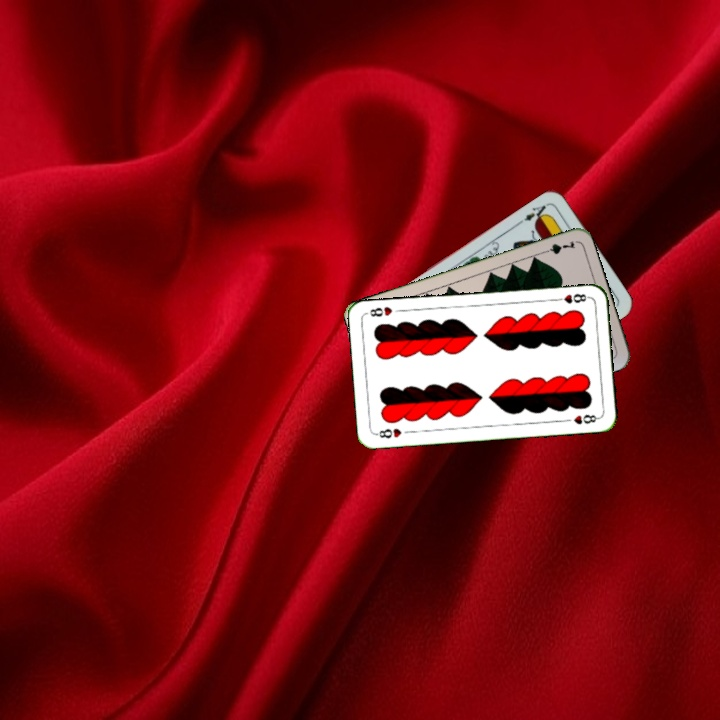EA: (515, 201, 550, 226)
G7: (537, 236, 577, 257)
H8: (551, 289, 592, 306), (372, 424, 404, 441)
